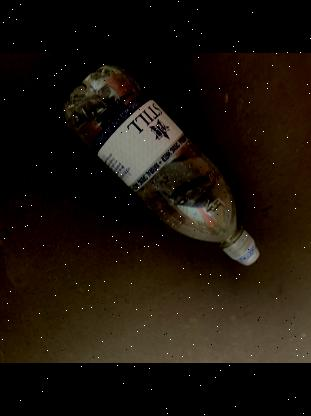Plastic Bottle: (61, 64, 260, 266)
